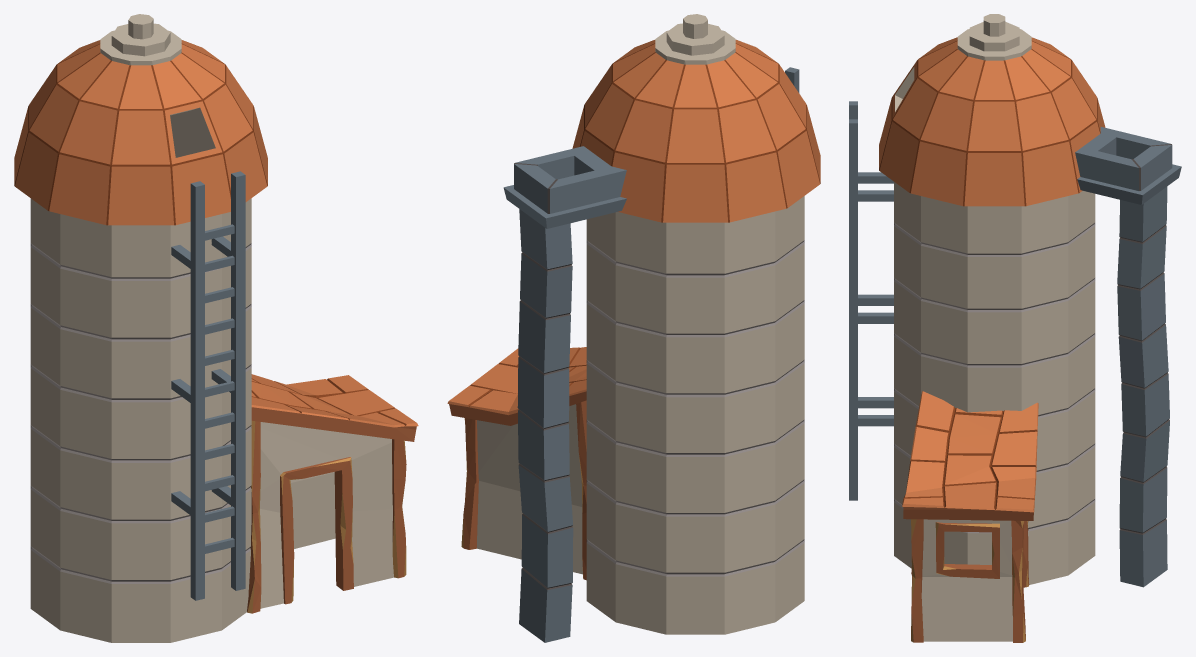
The model's file is Silo.fbx.
The picture shows the model from 3 angles, left to right: view 1: azimuth 30°, elevation 25°; view 2: azimuth 150°, elevation 25°; view 3: azimuth 270°, elevation 25°; orthographic projection. The views are drawn at different scales.
Visible parts, largest first — view 1: Silo; view 2: Silo; view 3: Silo.
Boxes of the visible parts, x1,y1,x2,y2 form: Silo: (14,14,418,642); Silo: (447,14,820,642); Silo: (849,14,1181,642).
Size of the model in its own units: 186 by 303 by 173.
